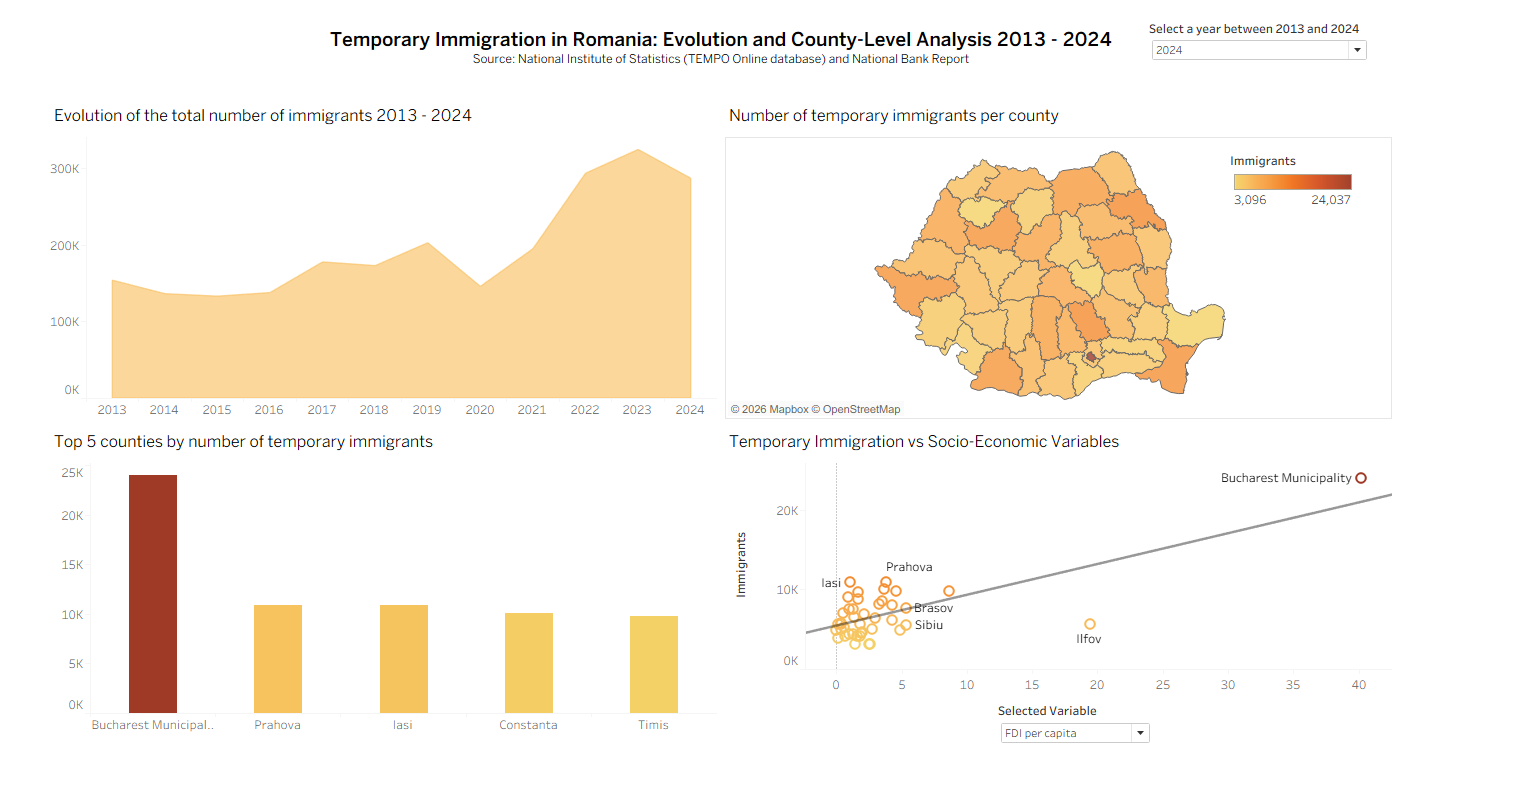

Layout of this report page (visuals, bound fields, positions):
{"tool":"tableau","page":{"name":"Dashboard","canvas":[1366,768],"ordinal":0},"visuals":[{"type":"text","box":[8,8,1350,99]},{"type":"filter","title":"Scatter plot","param":"[federated.1fq7lc20zpv4rt12v9jxp1509zvn].[none:Years:nk]","box":[1111,30,221,42]},{"type":"worksheet","title":"Line","mark":"Area","rows":["Immigrants"],"cols":["Years"],"box":[8,107,675,326]},{"type":"worksheet","title":"Map","mark":"Multipolygon","box":[683,107,675,326]},{"type":"legend","title":"Map","param":"[federated.1fq7lc20zpv4rt12v9jxp1509zvn].[sum:Immigrants:qk]","box":[1192,162,126,57]},{"type":"worksheet","title":"Bar Chart","mark":"Bar","rows":["Immigrants"],"cols":["County"],"box":[8,433,675,327]},{"type":"worksheet","title":"Scatter plot","mark":"Automatic","rows":["Immigrants"],"cols":["Calculation_658369975052091392"],"box":[683,433,675,327]},{"type":"parameter","param":"[Parameters].[Parameter 1]","box":[960,712,155,44]}]}

Visuals, with their boxes on the page's 1366x768 design canvas (x1, y1, x2, y2). These are canvas units, not pixel positions in the 1523x800 screenshot, which may show the page scaled, cropped or inside an application window:
text: bbox=[8, 8, 1358, 107]
"Scatter plot" filter: bbox=[1111, 30, 1332, 72]
"Line" worksheet (Area marks): bbox=[8, 107, 683, 433]
"Map" worksheet (Multipolygon marks): bbox=[683, 107, 1358, 433]
"Map" legend: bbox=[1192, 162, 1318, 219]
"Bar Chart" worksheet (Bar marks): bbox=[8, 433, 683, 760]
"Scatter plot" worksheet: bbox=[683, 433, 1358, 760]
parameter: bbox=[960, 712, 1115, 756]
